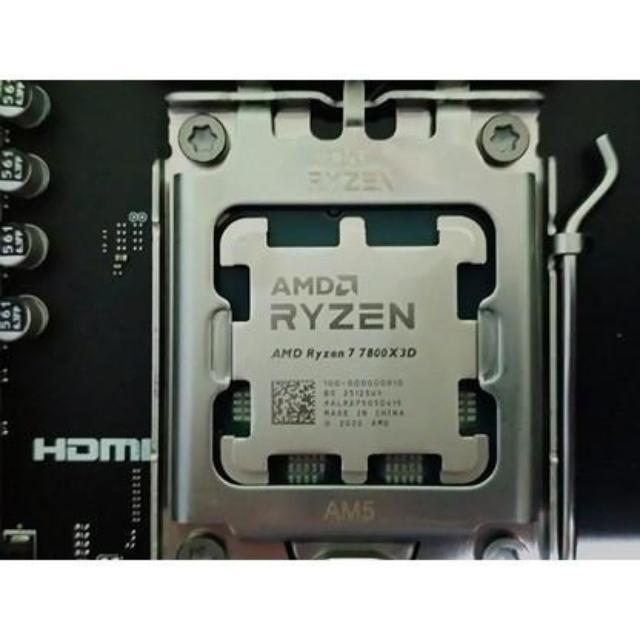CPU: (215, 212, 490, 484)
